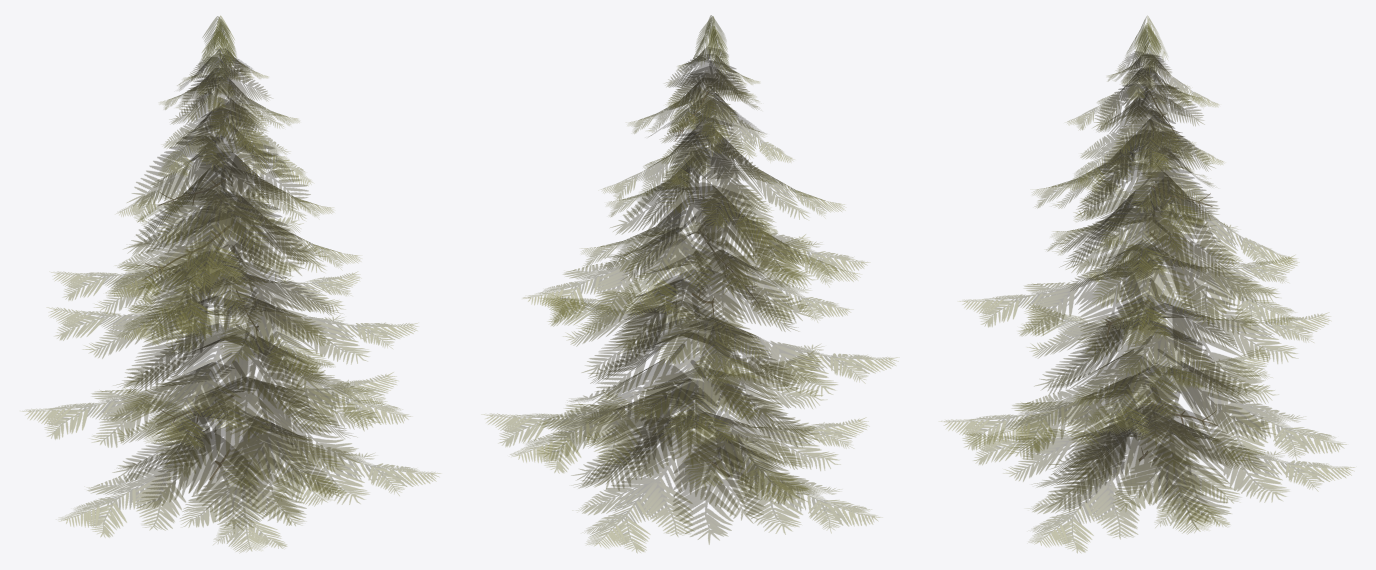
Rendered from leaves.obj.
The picture shows the model from 3 angles, left to right: view 1: azimuth 30°, elevation 25°; view 2: azimuth 150°, elevation 25°; view 3: azimuth 270°, elevation 25°; orthographic projection. The views are drawn at different scales.
Visible parts, largest first — view 1: Leaves/001_Leavs_0; view 2: Leaves/001_Leavs_0; view 3: Leaves/001_Leavs_0.
Part boxes in pixels (left/top/right/bottom): Leaves/001_Leavs_0: left=22, top=16, right=439, bottom=552; Leaves/001_Leavs_0: left=484, top=15, right=897, bottom=552; Leaves/001_Leavs_0: left=941, top=16, right=1354, bottom=552.
Bounding box in the file's own units: 4.22 × 5.12 × 4.22.
